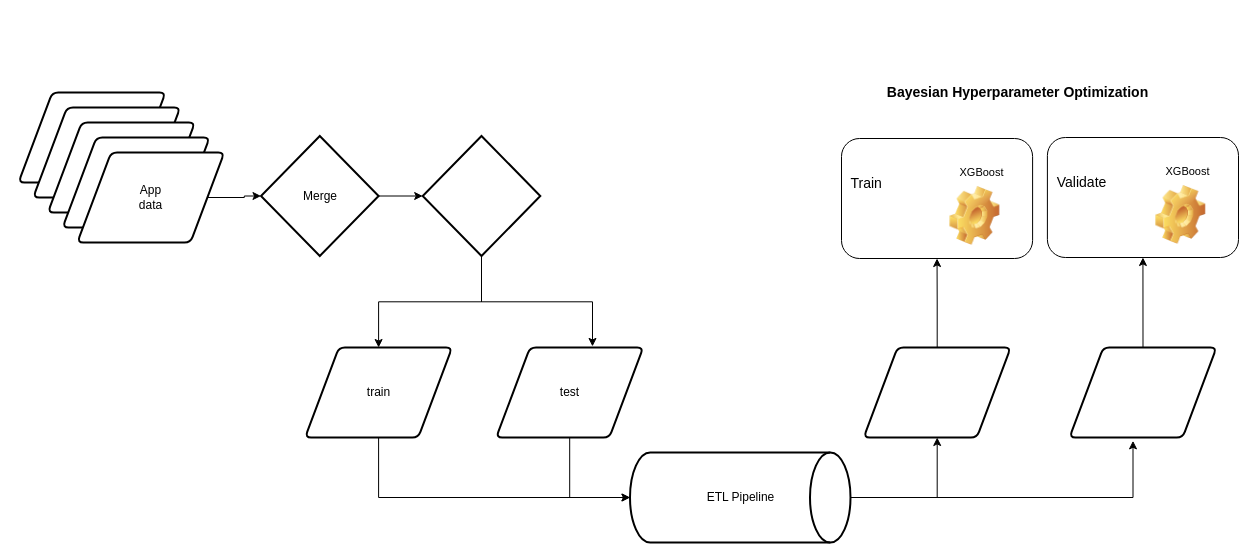
Some shapes in this 1256 by 560 pixel diagram are drawn without their labels. Each missing label, with the centre of its shape:
processed test: point (1142, 392)
processed train: point (936, 392)
Split Data: point (481, 195)
